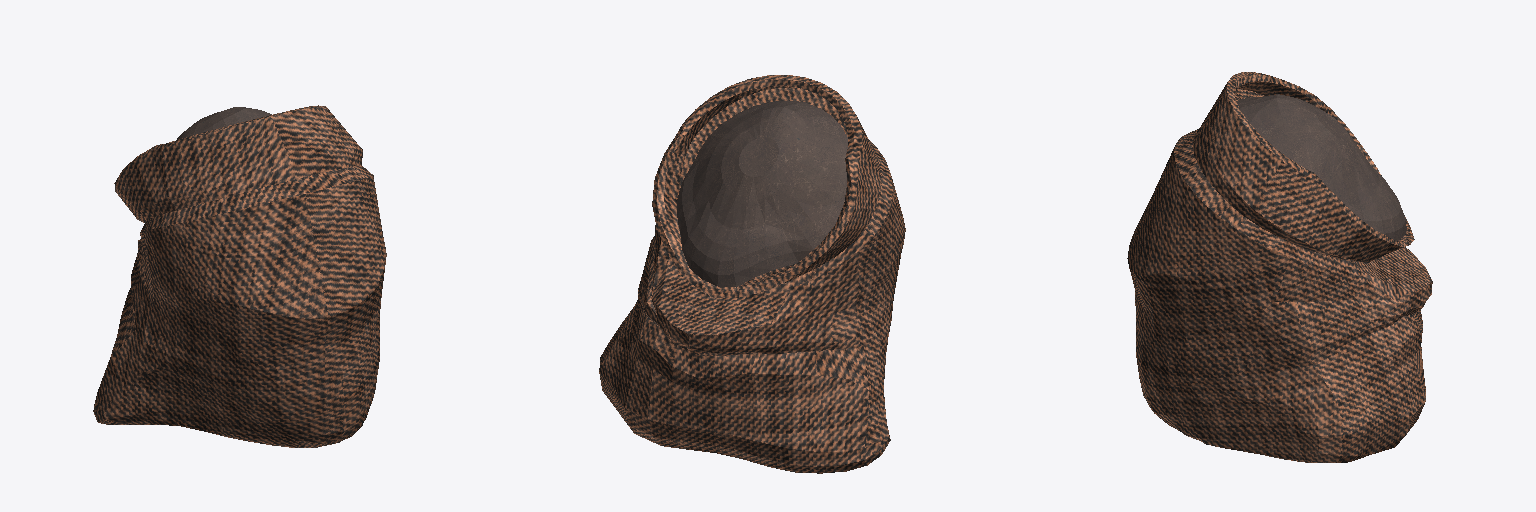
3 renders of one model, left to right at view 1: azimuth 30°, elevation 25°; view 2: azimuth 150°, elevation 25°; view 3: azimuth 270°, elevation 25°, orthographic.
Visible parts, largest first — view 1: cafe_Sphere; view 2: cafe_Sphere; view 3: cafe_Sphere.
Boxes of the visible parts, box(x1,y1,x2,y2) form: cafe_Sphere: box(93, 105, 386, 447); cafe_Sphere: box(599, 75, 905, 473); cafe_Sphere: box(1127, 72, 1432, 462).
Bounding box in the file's own units: 2.56 × 2.9 × 2.48.
2 materials, 2 textured.